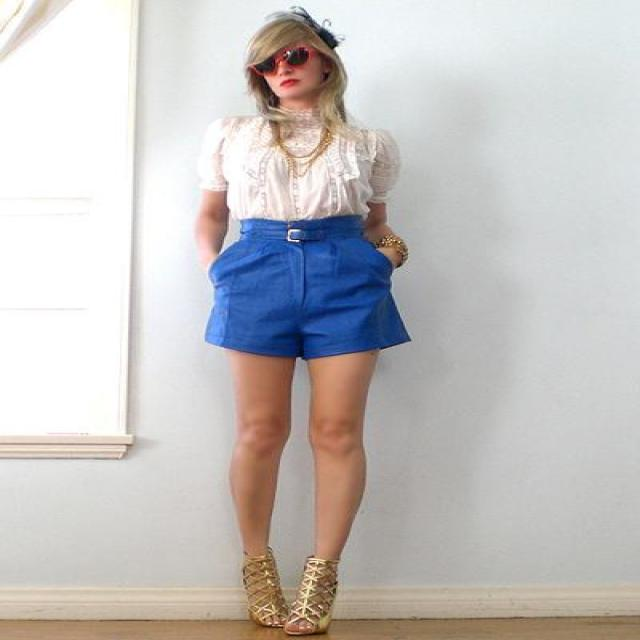shirt: (198, 100, 413, 221)
shoe: (230, 550, 341, 630)
shorts: (205, 233, 402, 359)
sunglass: (255, 48, 308, 74)
